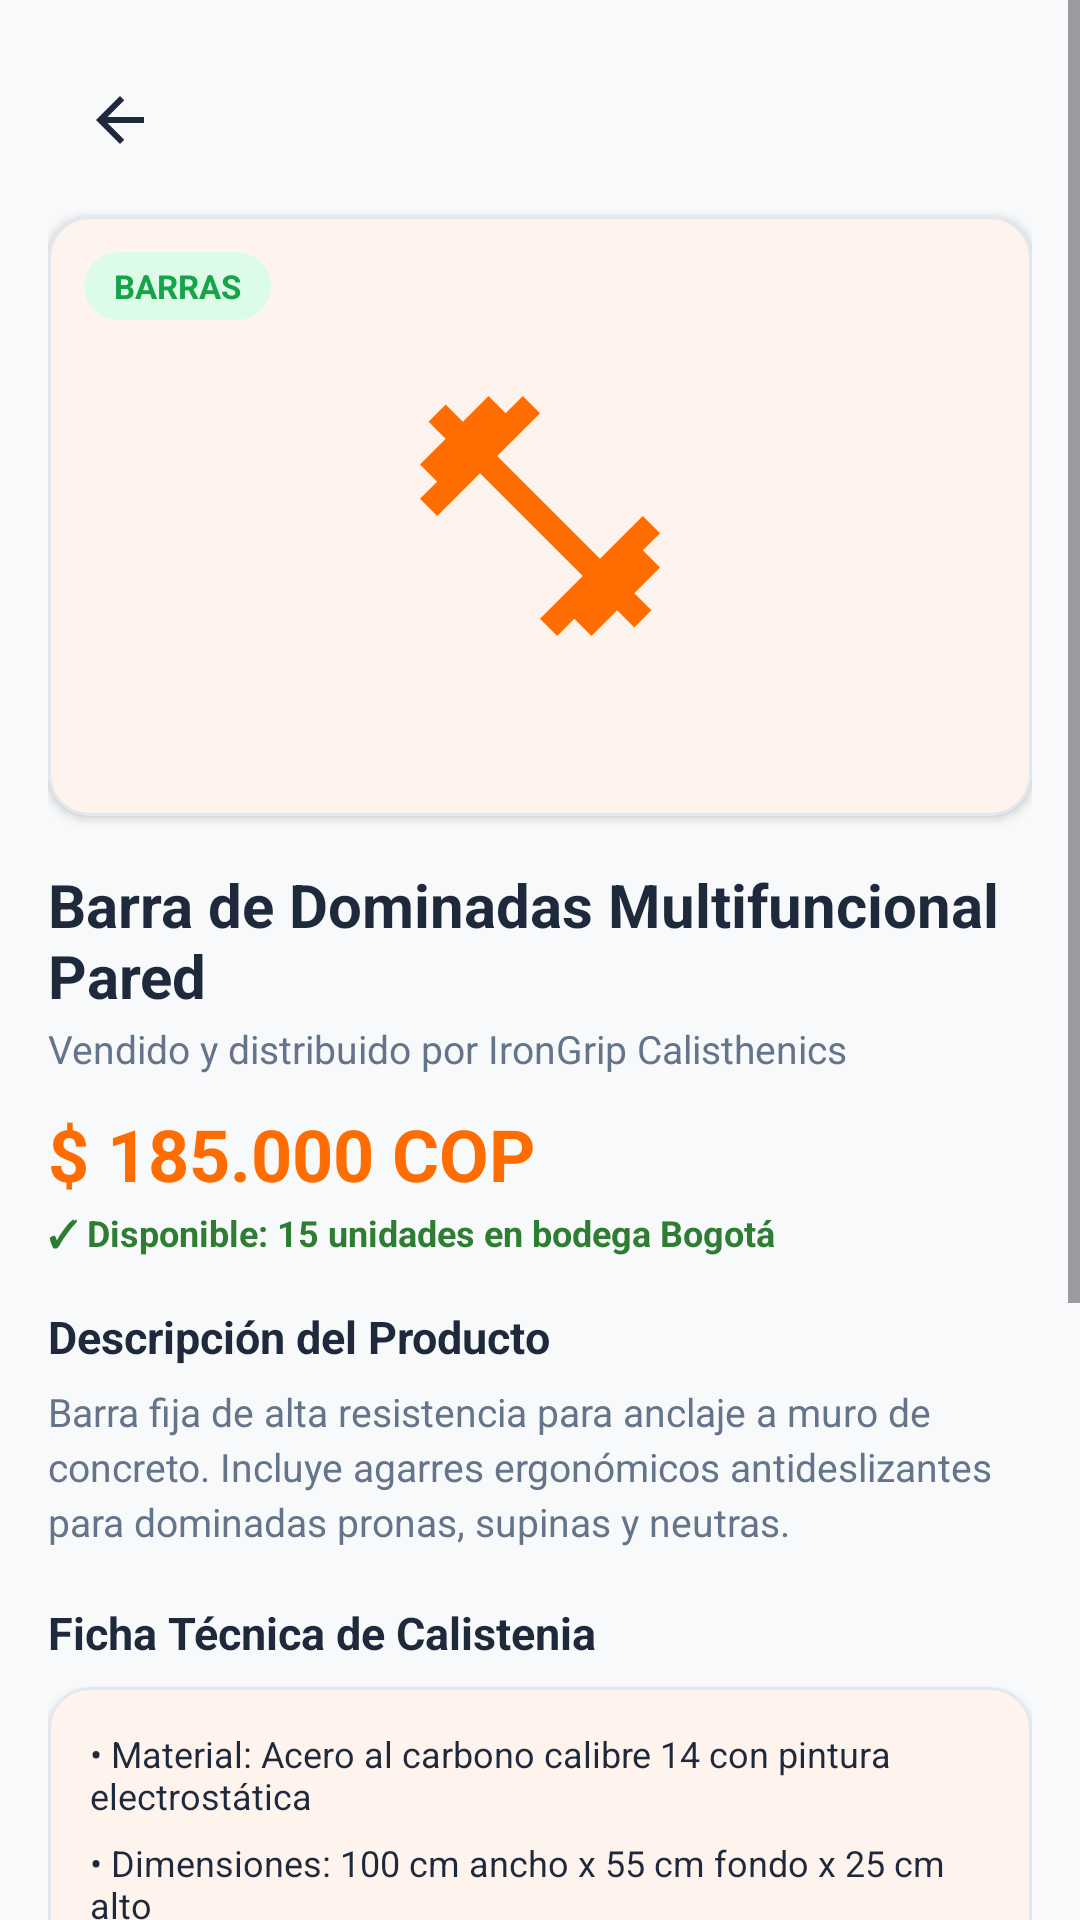

Icon click points for this 1080 x 1920 phone screenshot, format point (x, y):
Imagen del producto: point (540, 516)
Regresar al catálogo: point (120, 120)
